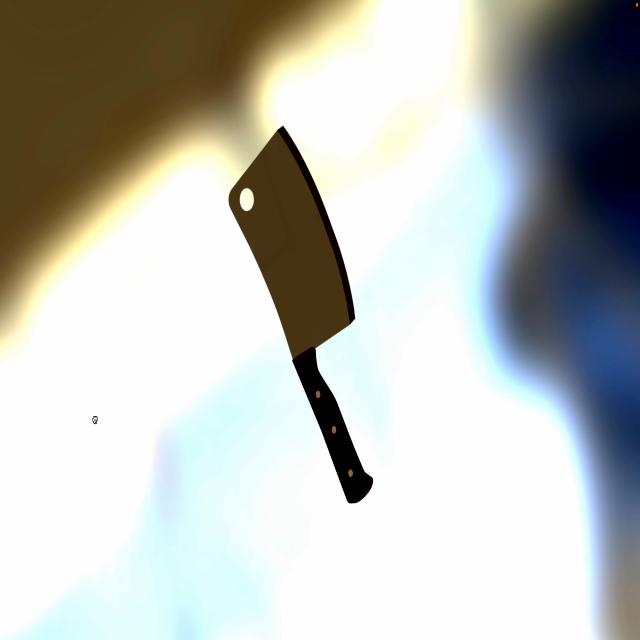cleaver: (233, 128, 379, 500)
